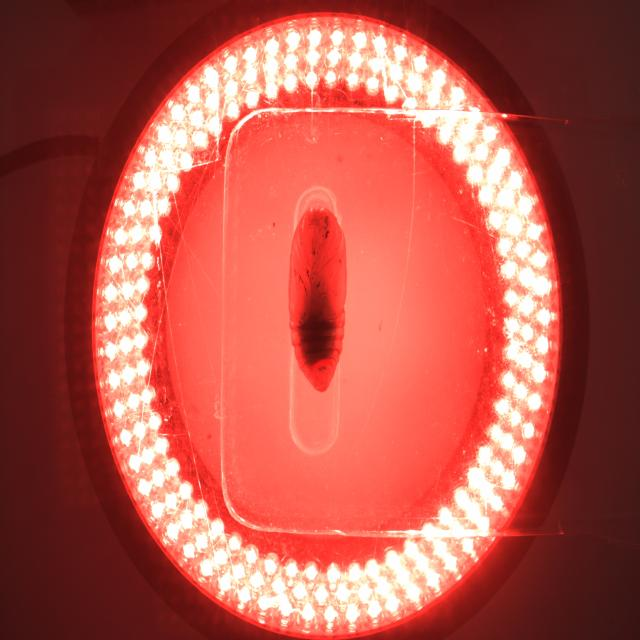male: (316, 364, 328, 376)
